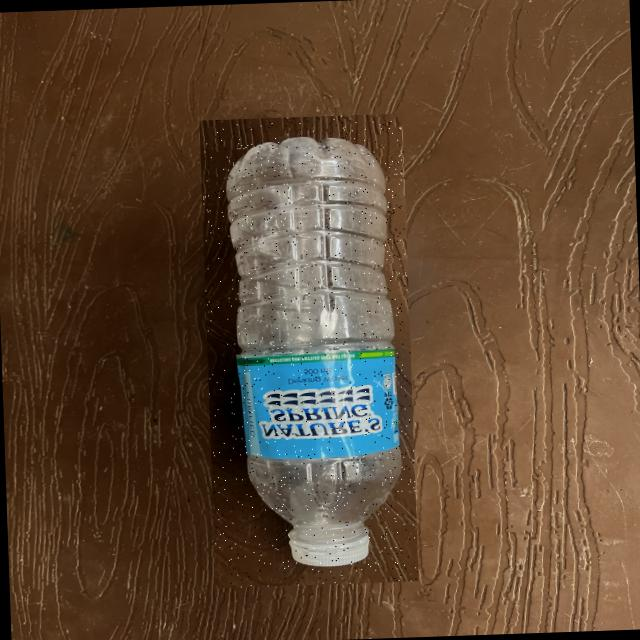REJECT: (199, 112, 418, 587)
